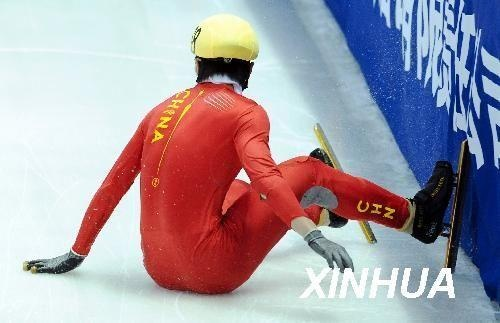falling: (2, 10, 489, 304)
